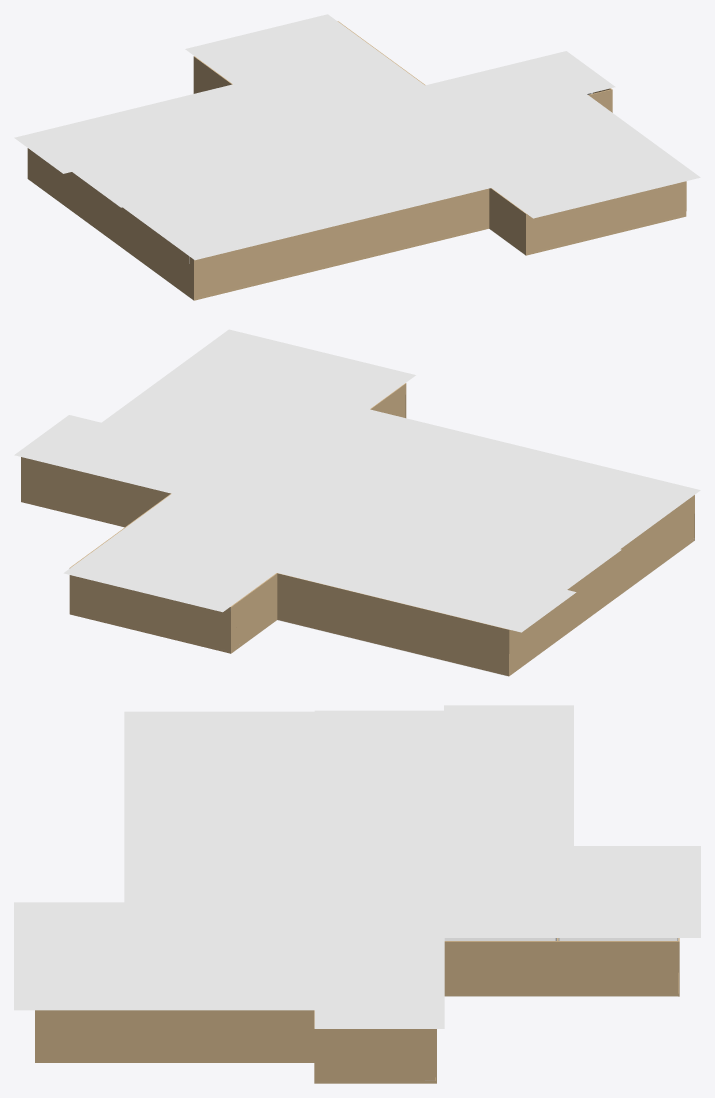
File: GKV5.fbx
3 renders of one model, top to bottom at view 1: azimuth 30°, elevation 25°; view 2: azimuth 150°, elevation 25°; view 3: azimuth 270°, elevation 25°, orthographic. The views are drawn at different scales.
Visible parts, largest first — view 1: Plane, Plane.006, Plane.009, Plane.008, Plane.007, Cube.016, Cube.018, Cube.017, Cube.020, Cube.133, Cube.019, Cube.021 (+20 smaller); view 2: Plane, Plane.006, Plane.009, Plane.008, Plane.007, Cube.167, Cube.177, Cube.166, Cube.175, Cube.174, Cube.168, Cube.053 (+19 smaller); view 3: Plane, Plane.006, Plane.009, Plane.008, Plane.007, Cube.088, Cube.092, Cube.086, Cube.087, Cube.089, Cube.090, Cube.093 (+23 smaller).
Part boxes in pixels (<box>): Plane: <box>72,51,615,207</box>; Plane.006: <box>123,135,491,260</box>; Plane.009: <box>420,94,700,218</box>; Plane.008: <box>185,14,424,120</box>; Plane.007: <box>14,84,281,173</box>; Cube.016: <box>250,243,266,286</box>; Cube.018: <box>202,254,218,298</box>; Cube.017: <box>234,247,250,290</box>; Cube.020: <box>282,235,298,278</box>; Cube.133: <box>457,192,473,236</box>; Cube.019: <box>218,251,234,294</box>; Cube.021: <box>266,239,282,282</box>; Plane: <box>14,415,621,589</box>; Plane.006: <box>289,409,700,548</box>; Plane.009: <box>102,329,415,468</box>; Plane.008: <box>63,493,331,612</box>; Plane.007: <box>277,532,576,632</box>; Cube.167: <box>428,610,446,660</box>; Cube.177: <box>303,579,321,630</box>; Cube.166: <box>410,605,428,656</box>; Cube.175: <box>321,584,339,634</box>; Cube.174: <box>339,588,357,639</box>; Cube.168: <box>446,614,464,665</box>; Cube.053: <box>30,459,48,508</box>; Plane: <box>314,710,444,1028</box>; Plane.006: <box>124,711,314,902</box>; Plane.009: <box>14,902,314,1010</box>; Plane.008: <box>443,846,700,937</box>; Plane.007: <box>444,705,573,845</box>; Cube.088: <box>533,941,557,996</box>; Cube.092: <box>606,941,630,996</box>; Cube.086: <box>460,941,484,996</box>; Cube.087: <box>485,941,509,996</box>; Cube.089: <box>557,941,581,996</box>; Cube.090: <box>509,941,533,996</box>; Cube.093: <box>582,941,606,996</box>.
Size of what is drawn, in the model's own units: 12618 by 1040 by 11321.
